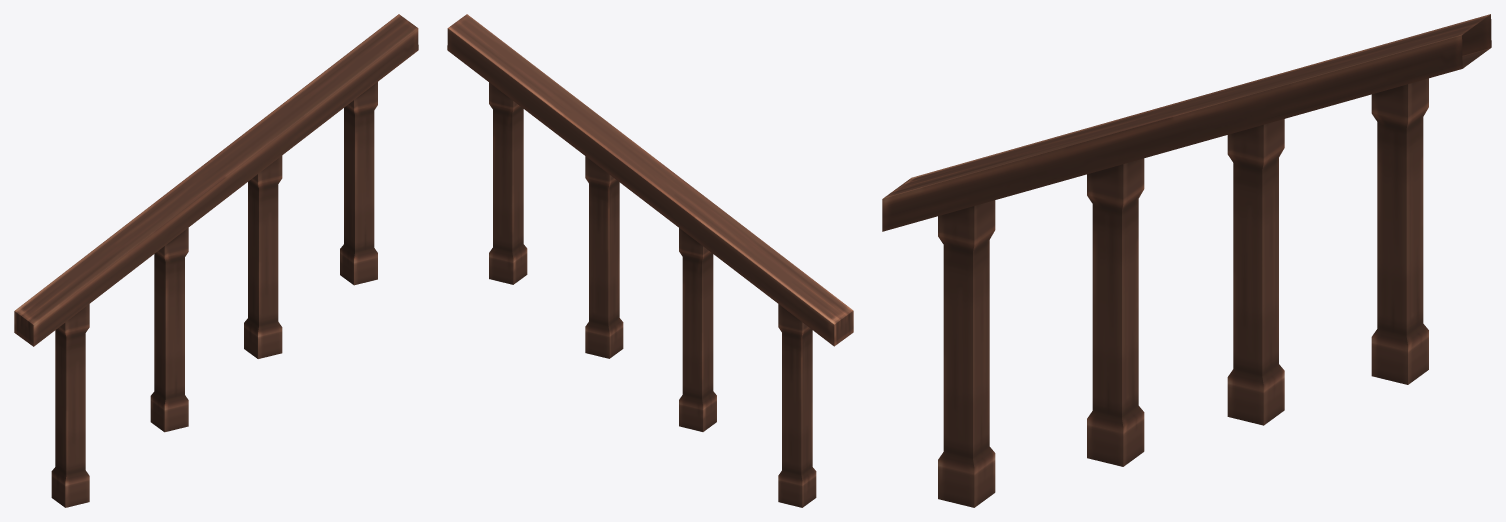
Rendered from Stair_border.fbx.
3 renders of one model, left to right at view 1: azimuth 30°, elevation 25°; view 2: azimuth 150°, elevation 25°; view 3: azimuth 330°, elevation 25°, orthographic. The views are drawn at different scales.
Parts seen in each view (by area): view 1: polySurface43; view 2: polySurface43; view 3: polySurface43.
Boxes of the visible parts, box(x1,y1,x2,y2) form: polySurface43: box(14, 14, 418, 507); polySurface43: box(447, 14, 853, 507); polySurface43: box(882, 14, 1491, 507).
Size of the model in its own units: 1.99 by 1.96 by 0.1784.
